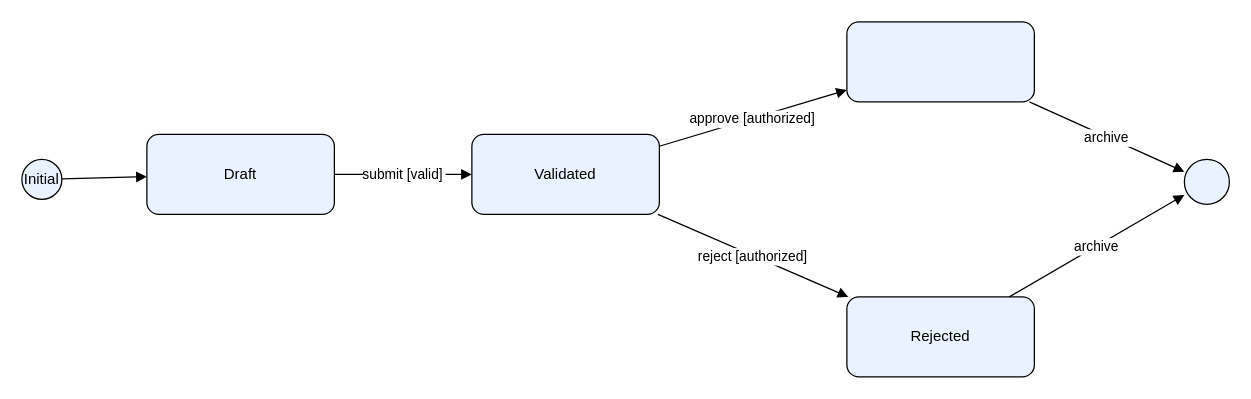
The diagram is 1251 pixels wide and 399 high, and some of its shapes have lost their labels. Each missing label, with the centre of its shape:
"Accepted" goes at point 940,61.
"Final" goes at point 1206,181.
